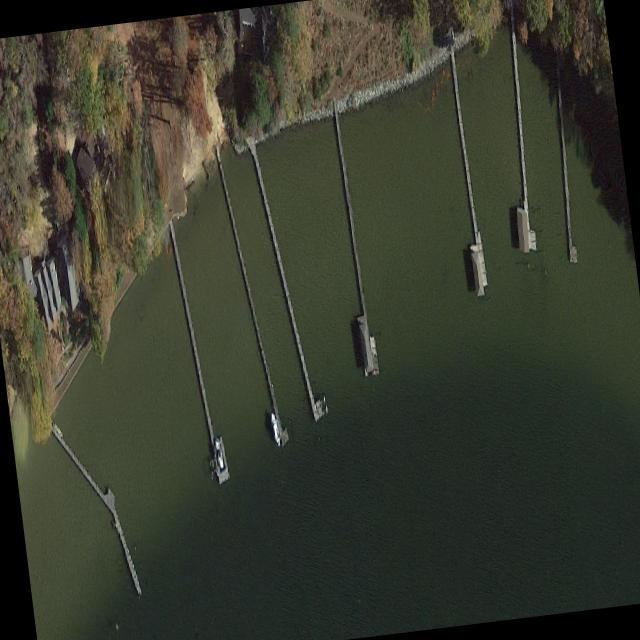ship: (269, 407, 282, 450), (214, 433, 224, 469)
